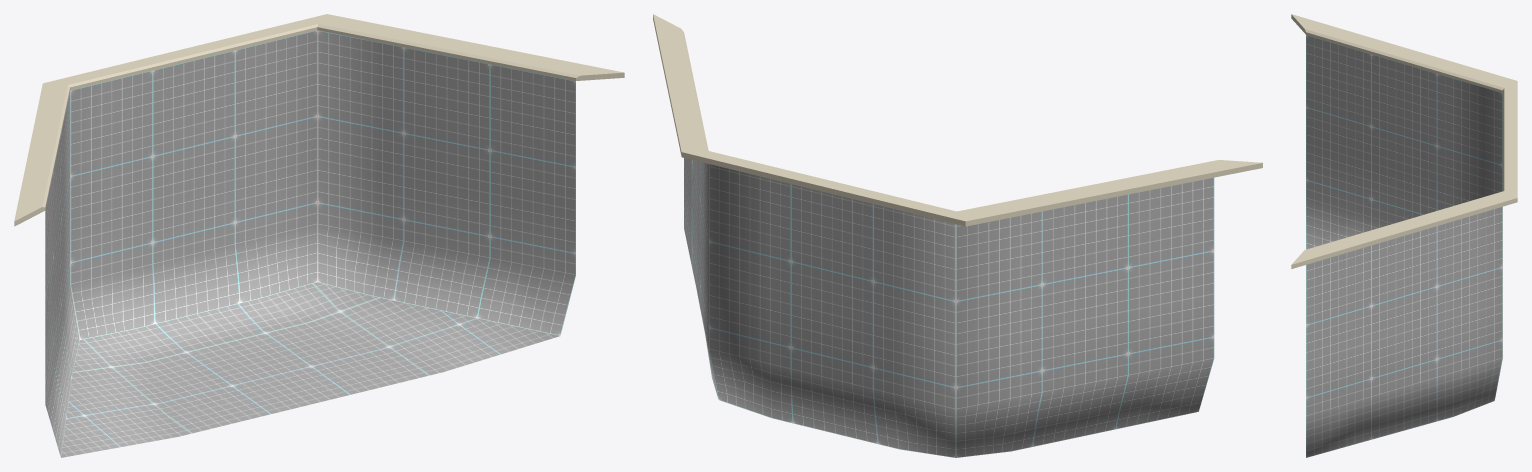
File: creusee.gltf
3 views of the same model, side by side, from view 1: azimuth 30°, elevation 25°; view 2: azimuth 150°, elevation 25°; view 3: azimuth 270°, elevation 25° (orthographic). The views are drawn at different scales.
Parts seen in each view (by area): view 1: creusee, rebord; view 2: creusee, rebord; view 3: creusee, rebord.
Boxes of the visible parts, box(x1,y1,x2,y2) form: creusee: box(45, 30, 575, 457); rebord: box(14, 14, 624, 226); creusee: box(684, 158, 1214, 457); rebord: box(653, 14, 1262, 226); creusee: box(1306, 35, 1502, 457); rebord: box(1291, 14, 1517, 268).
Size of the model in its own units: 4.94 by 2.04 by 1.88.
3 materials, 2 textured.
